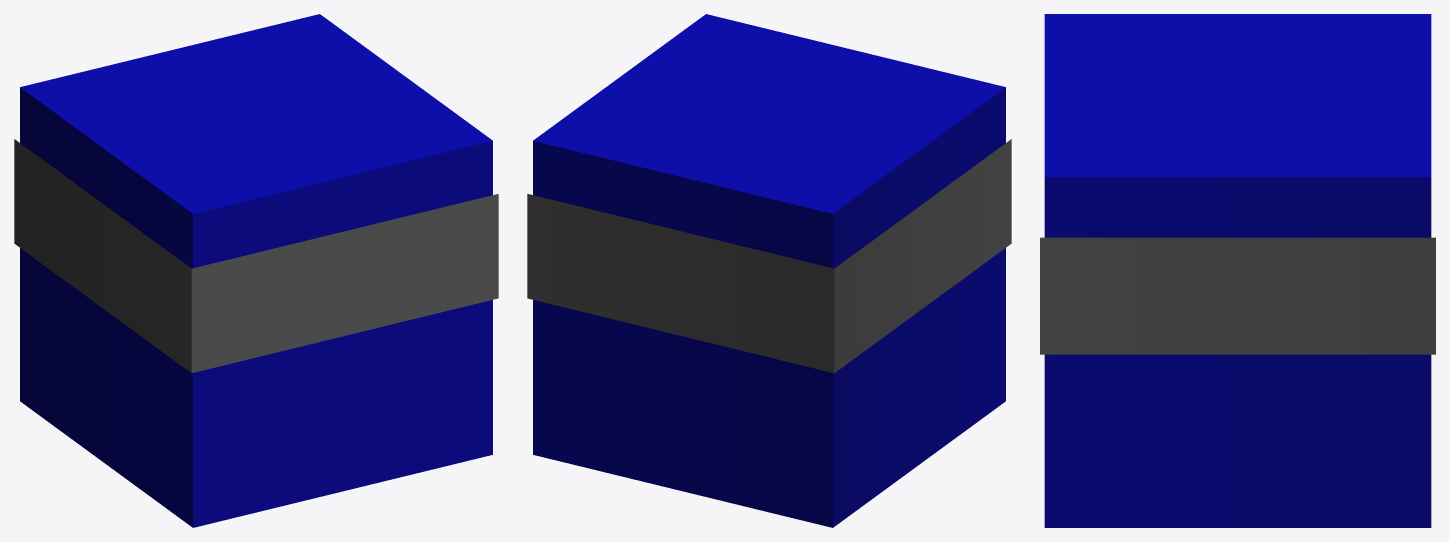
The model's file is office-smallest.glb.
3 views of the same model, side by side, from view 1: azimuth 30°, elevation 25°; view 2: azimuth 150°, elevation 25°; view 3: azimuth 270°, elevation 25° (orthographic). The views are drawn at different scales.
Visible parts, largest first — view 1: mesh0; view 2: mesh0; view 3: mesh0.
Boxes of the visible parts, x1,y1,x2,y2 form: mesh0: (14,14,498,527); mesh0: (527,14,1011,527); mesh0: (1040,14,1435,527).
Bounding box in the file's own units: 0.614 × 0.6 × 0.614.
